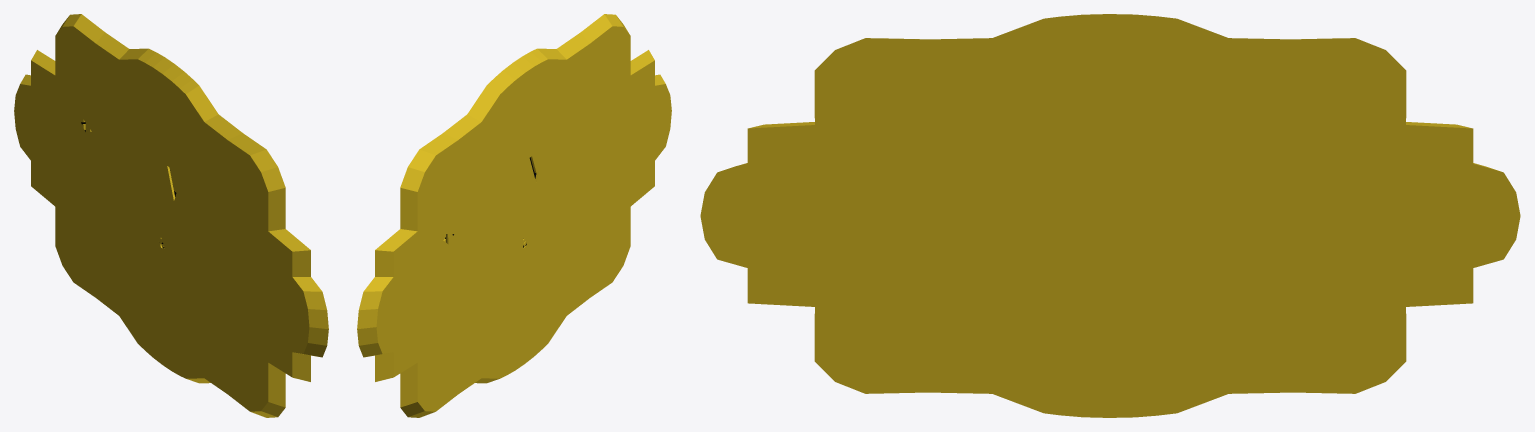
Rendered from Principal Plaque 1.fbx.
3 renders of one model, left to right at view 1: azimuth 30°, elevation 25°; view 2: azimuth 150°, elevation 25°; view 3: azimuth 270°, elevation 25°, orthographic. The views are drawn at different scales.
Parts seen in each view (by area): view 1: LW Minor; view 2: LW Minor; view 3: LW Minor.
Boxes of the visible parts, x1,y1,x2,y2 form: LW Minor: (14,14,328,417); LW Minor: (357,14,671,417); LW Minor: (700,14,1520,417).
Size of the model in its own units: 4.73 by 111 by 205.
